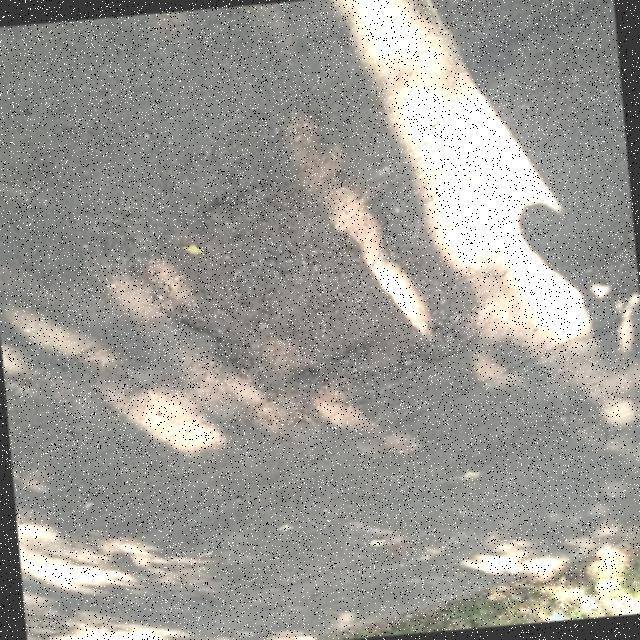Pothole: (136, 118, 497, 392)
